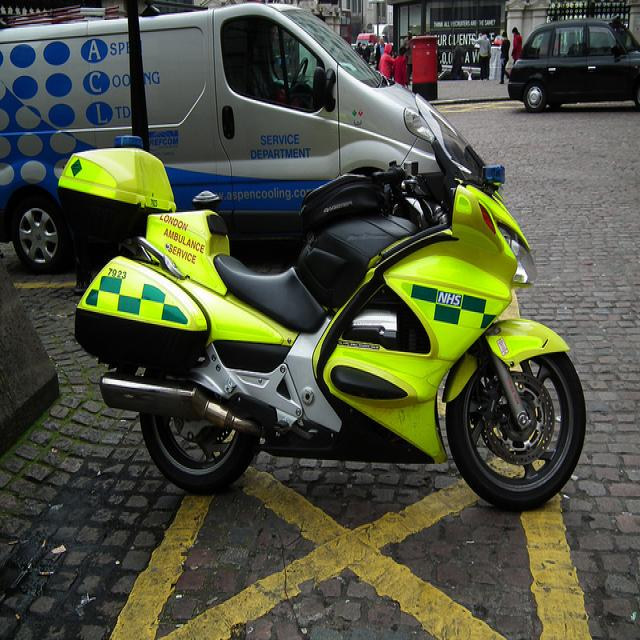motor: (61, 104, 588, 509)
